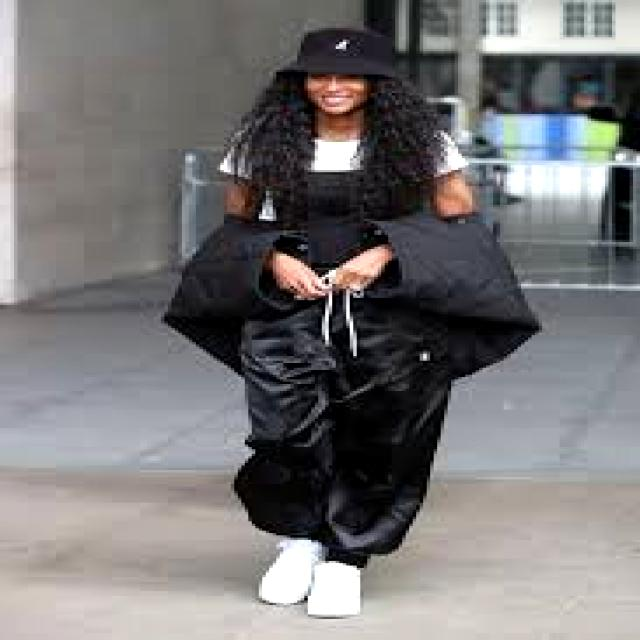foot-wear: (259, 538, 325, 605), (308, 561, 360, 616)
hat: (277, 28, 398, 76)
lower-wear: (235, 294, 451, 565)
